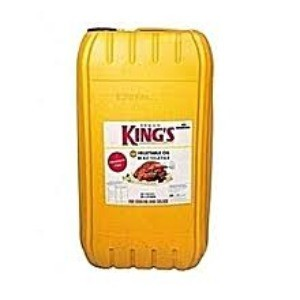vegetable oil_brain food: (77, 68, 213, 265)
